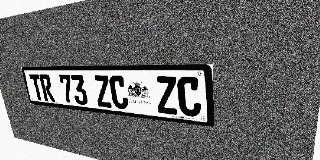3: (70, 75, 89, 105)
7: (58, 75, 76, 104)
C: (177, 76, 201, 117), (108, 75, 129, 110)
R: (39, 74, 55, 102)
T: (29, 74, 45, 101)
Z: (155, 76, 178, 115), (93, 75, 113, 108)
